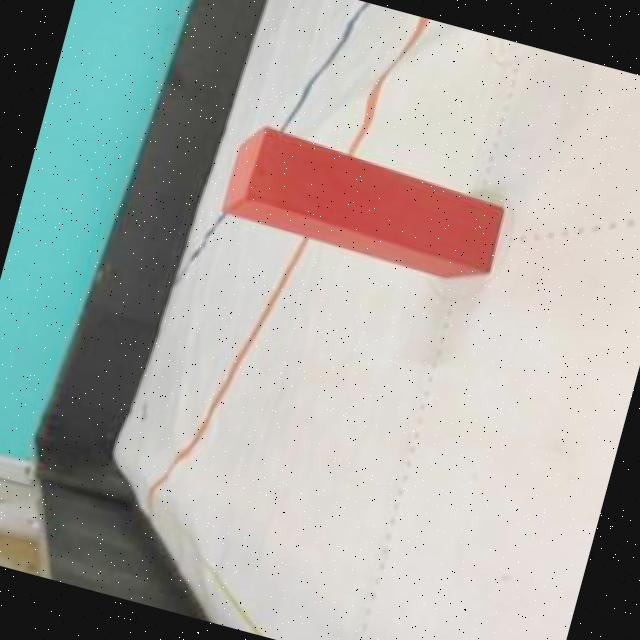redbox: (217, 119, 510, 288)
